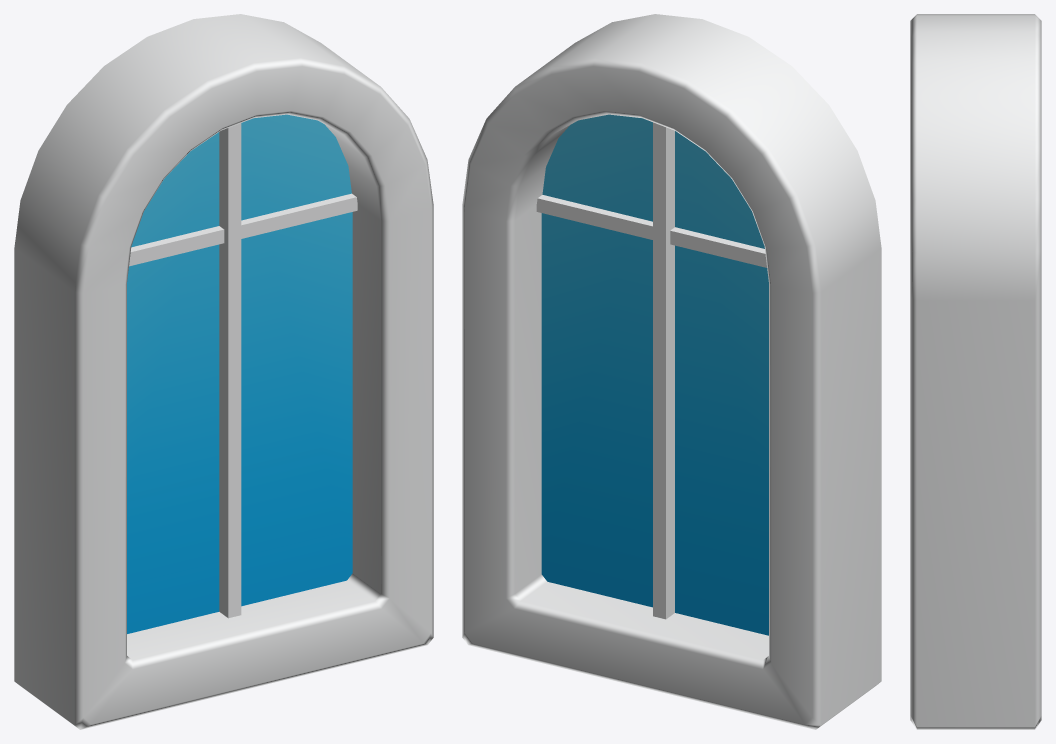
File: Window_White_16.glb
3 views of the same model, side by side, from view 1: azimuth 30°, elevation 25°; view 2: azimuth 150°, elevation 25°; view 3: azimuth 270°, elevation 25° (orthographic).
Parts seen in each view (by area): view 1: Window_White_16; view 2: Window_White_16; view 3: Window_White_16.
Boxes of the visible parts, x1,y1,x2,y2 form: Window_White_16: [14, 14, 433, 729]; Window_White_16: [462, 14, 881, 729]; Window_White_16: [910, 14, 1041, 729].
Size of the model in its own units: 1.24 by 2.07 by 0.4.
2 materials, 2 textured.
